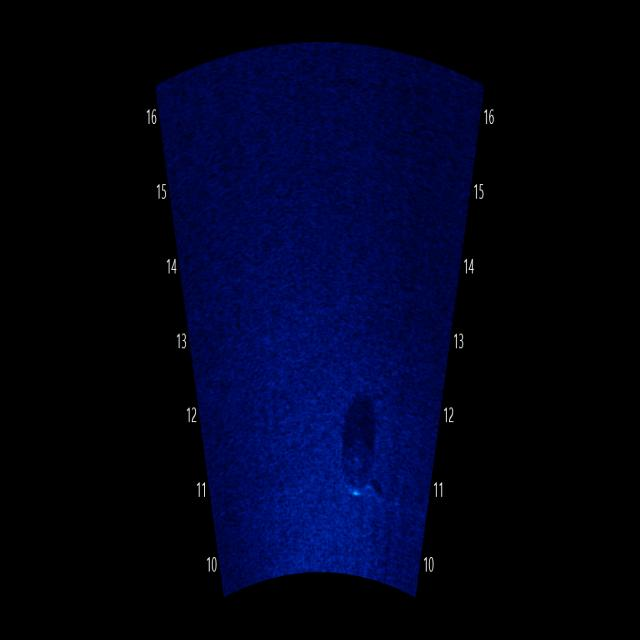circle: (331, 415, 391, 515)
